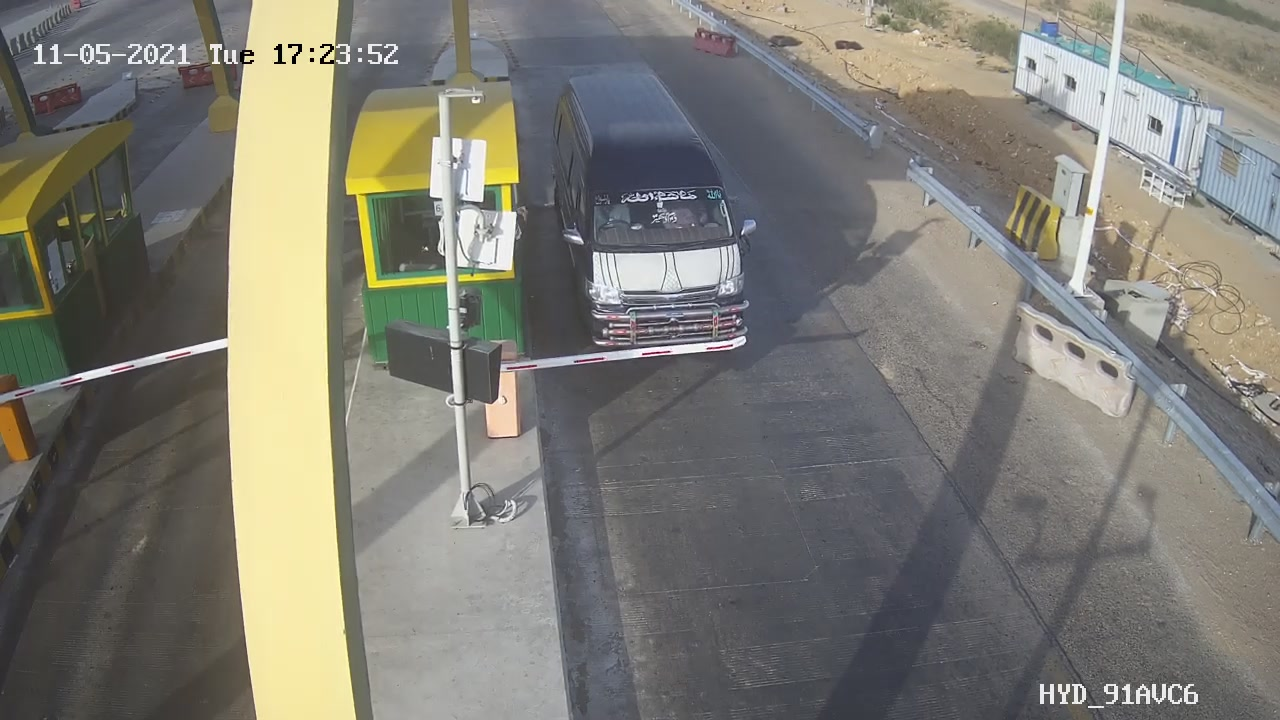F2: (531, 52, 778, 369)
